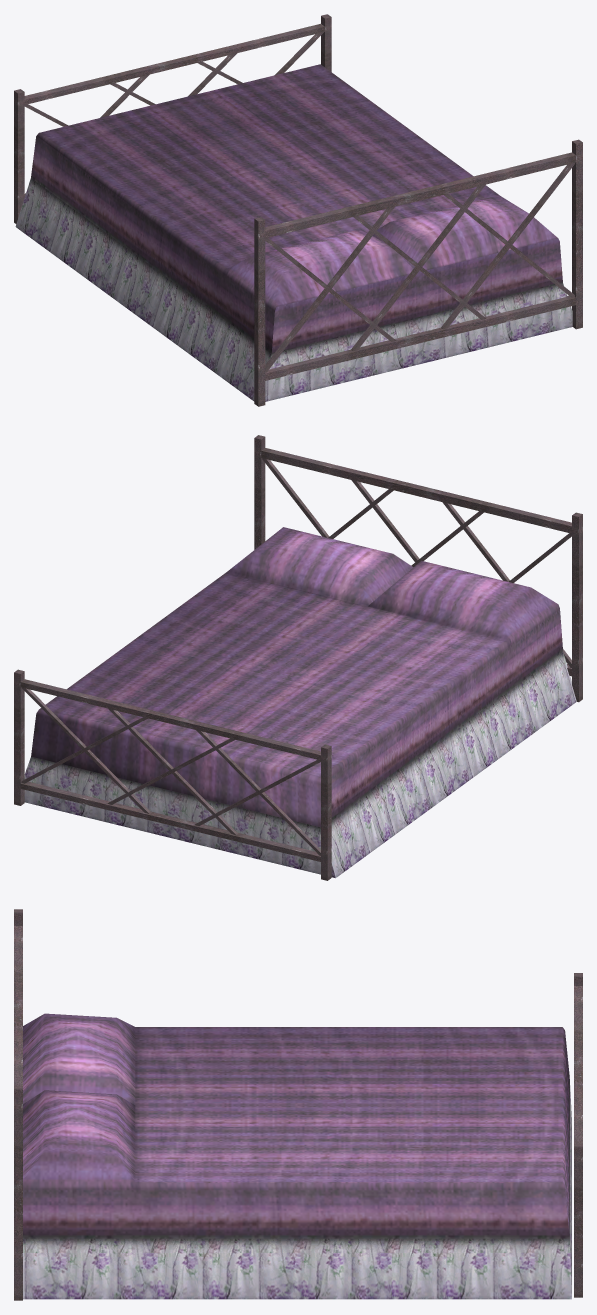
File: queenbedmetal.fbx
3 renders of one model, top to bottom at view 1: azimuth 30°, elevation 25°; view 2: azimuth 150°, elevation 25°; view 3: azimuth 270°, elevation 25°, orthographic. The views are drawn at different scales.
Visible parts, largest first — view 1: mesh_0, mesh_1; view 2: mesh_0, mesh_1; view 3: mesh_0, mesh_1.
Boxes of the visible parts, left/top/right/bottom form: mesh_0: left=31, top=64, right=557, bottom=353; mesh_1: left=14, top=14, right=582, bottom=406; mesh_0: left=31, top=527, right=562, bottom=827; mesh_1: left=14, top=435, right=582, bottom=880; mesh_0: left=23, top=1013, right=569, bottom=1238; mesh_1: left=14, top=909, right=582, bottom=1300.
Size of the model in its own units: 183 by 100 by 245.
1 material, 1 textured.
